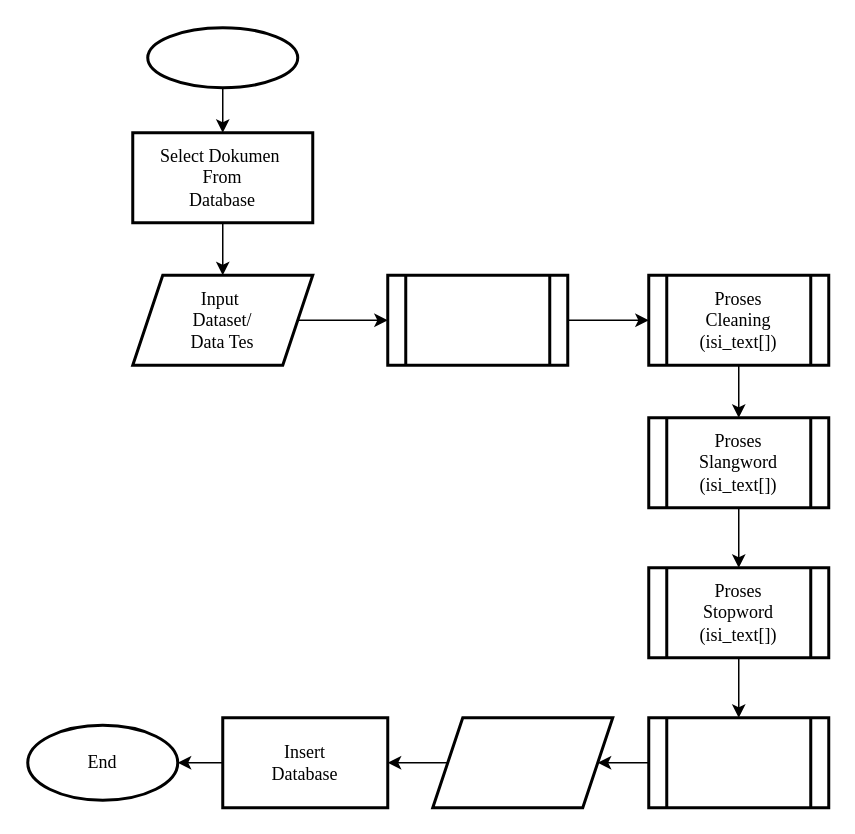
Some shapes in this 855 by 834 pixel diagram are drawn without their labels. Here are the shapes that lost their labels. From the top down, the centre of each, then its label:
At (222,57): "Start".
At (477,319): "Proses Casefolding (isi_text[])".
At (522,762): "Output Dokumen Bersih".
At (738,762): "Proses Trim (isi_text[])".
